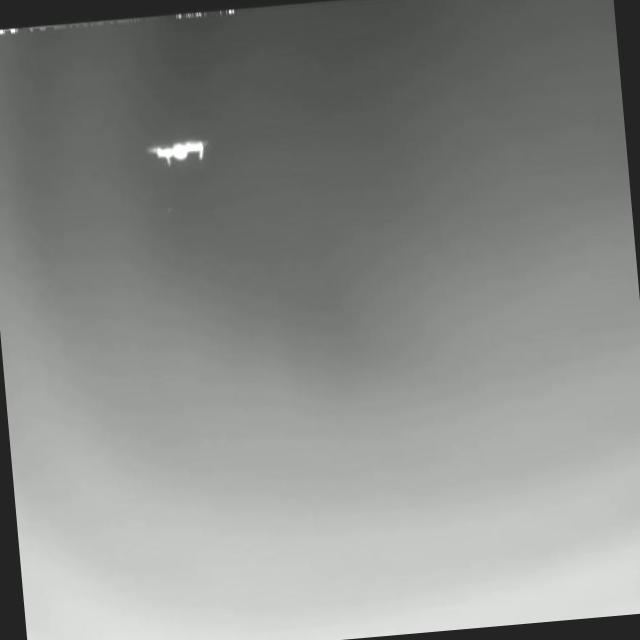DRONE: (145, 135, 208, 168)
